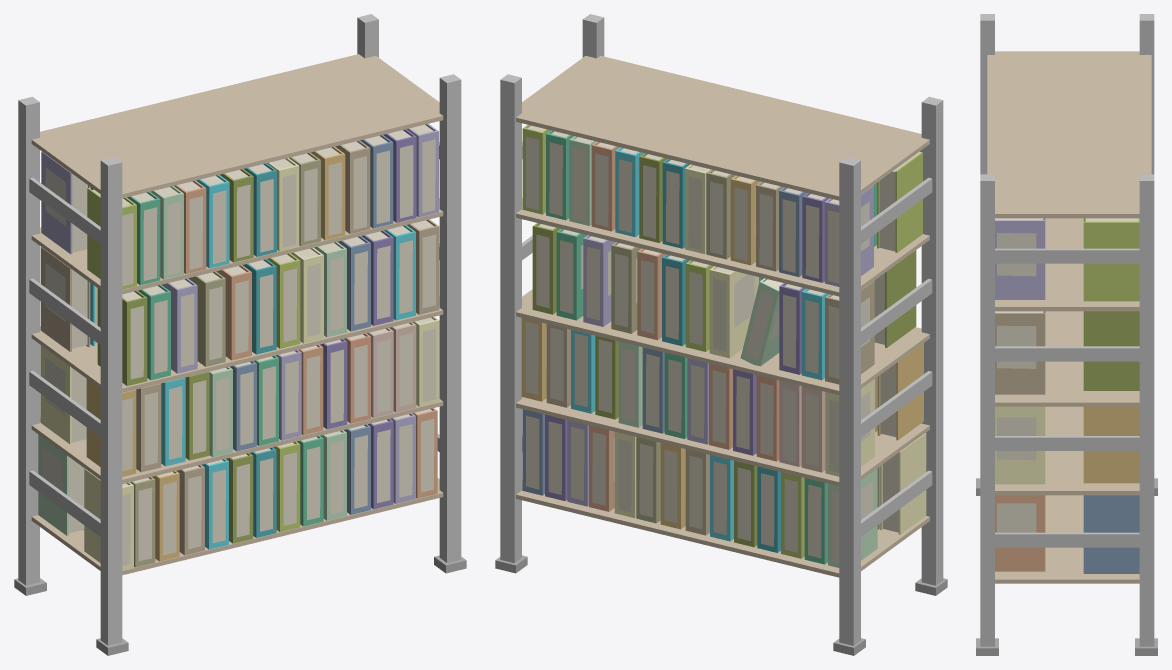
3 renders of one model, left to right at view 1: azimuth 30°, elevation 25°; view 2: azimuth 150°, elevation 25°; view 3: azimuth 270°, elevation 25°, orthographic. The views are drawn at different scales.
Visible parts, largest first — view 1: Cube_16; view 2: Cube_16; view 3: Cube_16.
Part boxes in pixels (box(x1,y1,x2,y2)): Cube_16: box(14, 14, 466, 655); Cube_16: box(495, 14, 947, 655); Cube_16: box(976, 14, 1157, 655).
Size of the model in its own units: 208 by 271 by 94.34.
